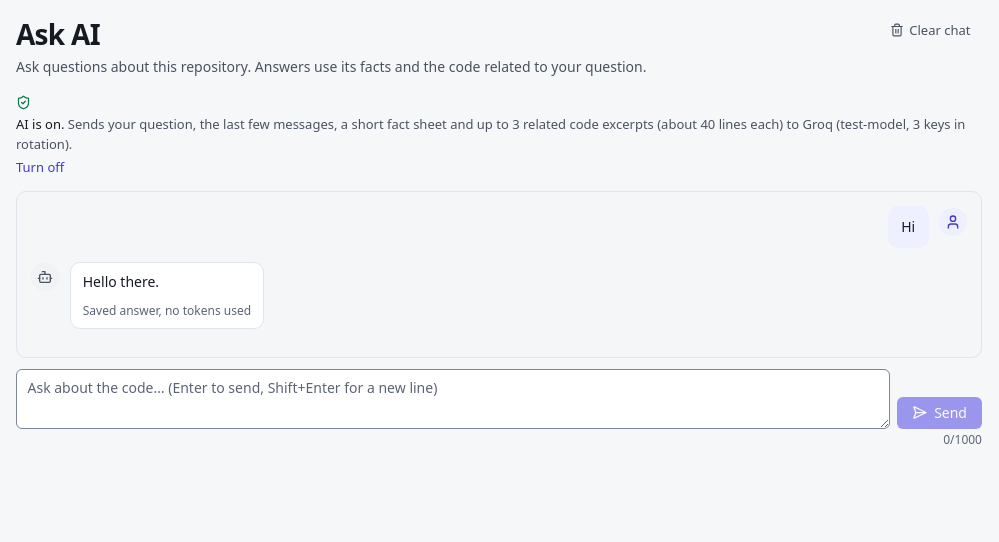
Test: repository chat › shows the saved conversation and clears it
The image size is (999, 542).
Expected: the text "Hello there." is shown, [83,272,159,291]
Expected: the text "Saved answer, no tokens used" is shown, [83,303,251,319]
Click the button "Clear chat" at coordinates (930, 30), box [878,16,982,44]
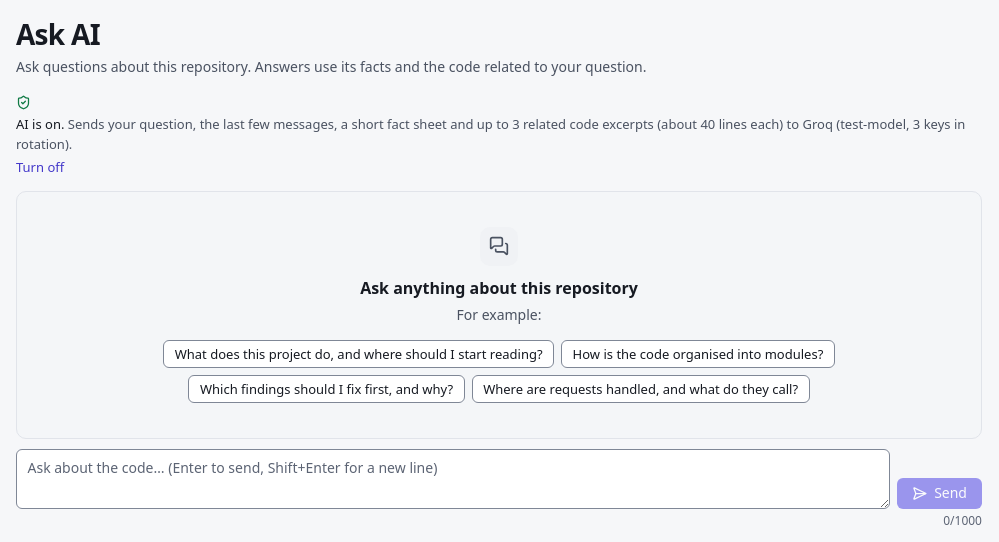
Expected: the heading "Ask anything about this repository" is shown, [360,276,638,300]
